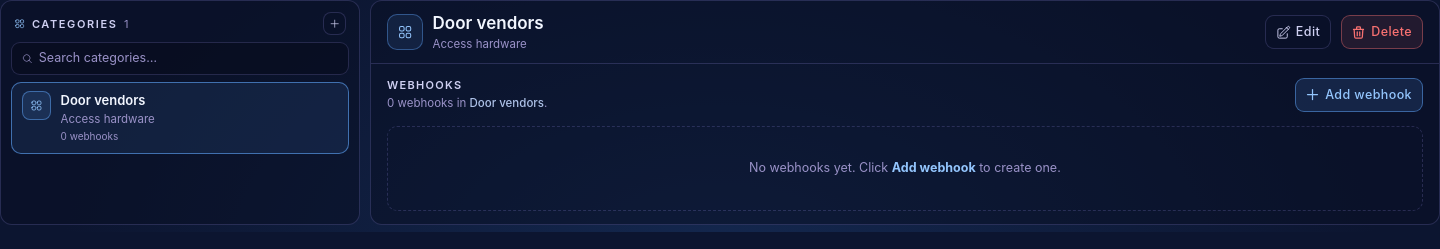
the derived selection › says nothing matches the search without claiming the estate is empty
The width and height of the screenshot is (1440, 249).
Type "zzz" into the field with placeholder "Search categories…" at coordinates (189, 58), box [39,49,339,68]
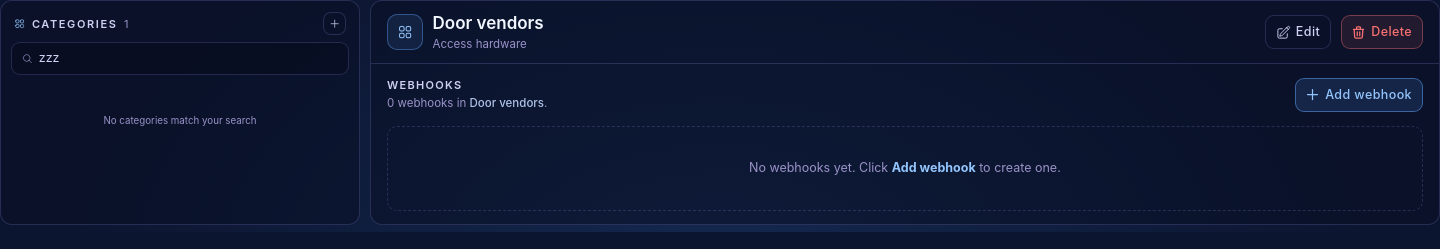
Expected: the text "No categories match your search" is shown, [103,115,256,126]
